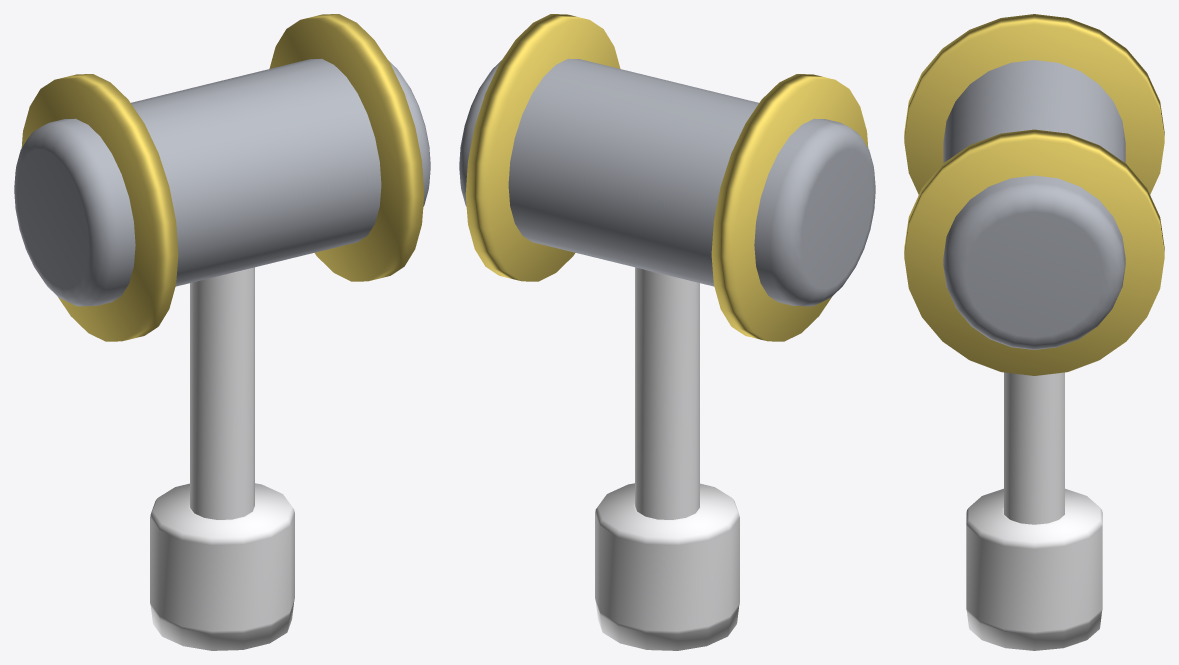
The model's file is ParasolPlummetHammer.glb.
3 renders of one model, left to right at view 1: azimuth 30°, elevation 25°; view 2: azimuth 150°, elevation 25°; view 3: azimuth 270°, elevation 25°, orthographic. The views are drawn at different scales.
Parts seen in each view (by area): view 1: Head, Handle, Band; view 2: Head, Handle, Band; view 3: Band, Head, Handle.
Part boxes in pixels (x1,y1,x2,y2): Head: (14,58,430,306); Handle: (150,267,294,650); Band: (21,14,424,341); Head: (459,58,875,306); Handle: (595,267,739,650); Band: (465,14,868,341); Band: (904,14,1164,375); Head: (943,60,1125,349); Handle: (966,372,1102,650).
Size of the model in its own units: 2.4 by 3.85 by 1.66.
